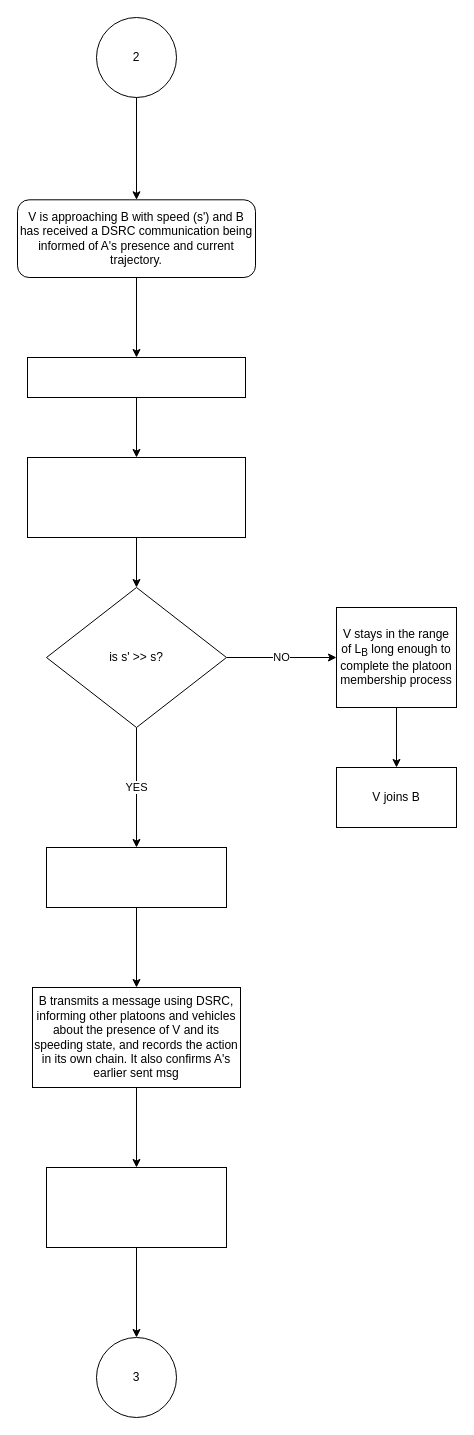
The diagram is 474 pixels wide and 1435 high, and some of its shapes have lost their labels. Each missing label, with the centre of its shape:
"A receives B's msg and marks the repetition of behavior in its own chain" belongs at point 136,1207.
"B's members maneuver appropriately to avoid collision with V" belongs at point 136,377.
"The membership process is interrupted due to V speeding off out of range" belongs at point 136,877.
"While passing, B attempts to form a temporary platoon with V" belongs at point 136,497.
